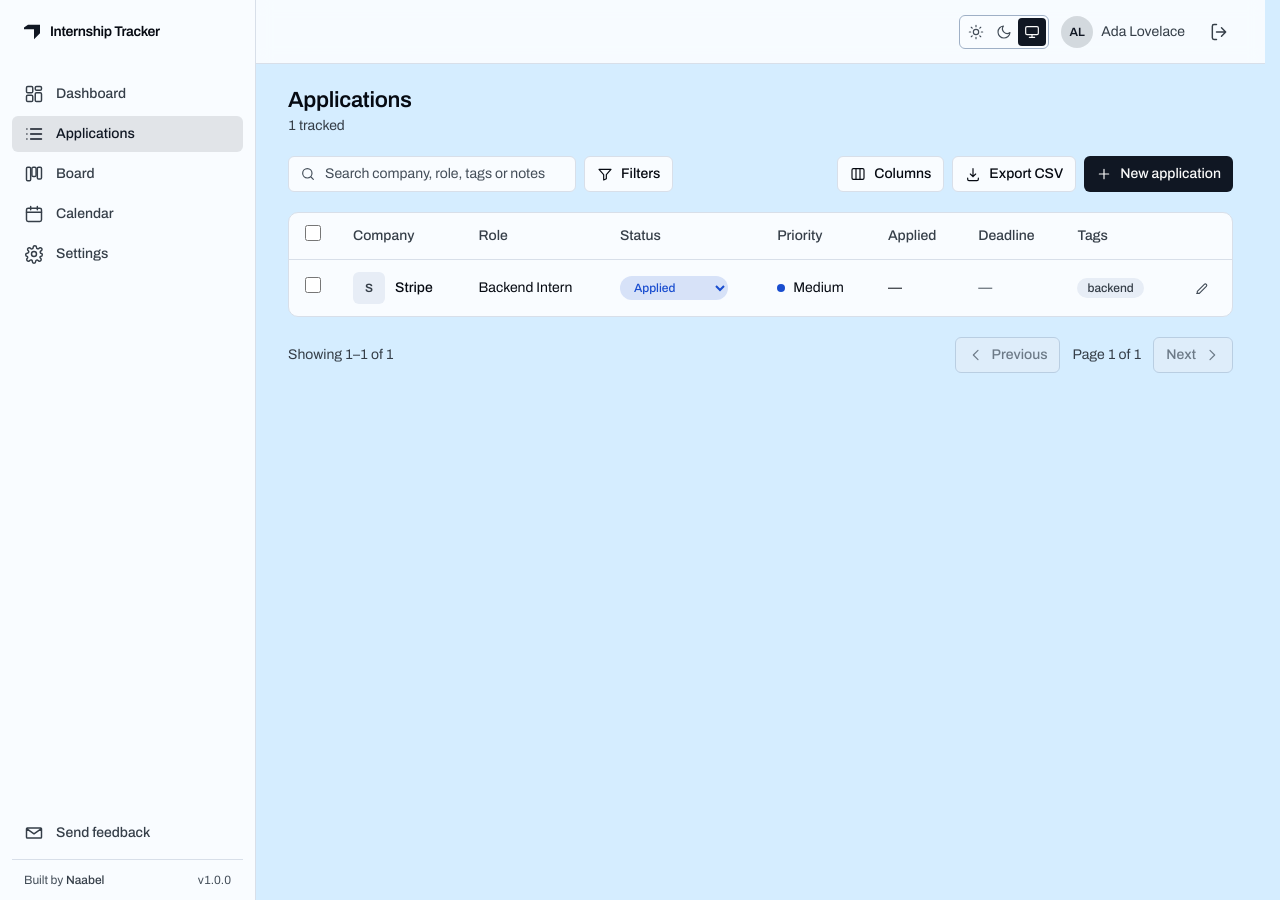
Test: the applications search field › keeps its name while the clear button is showing, and names everything it searches
Check: the link "S Stripe" is shown, box top-left (353, 272), bottom-right (433, 304)
Step 1. Type "stri" into the search field named "Search applications" → (432, 174), box top-left (288, 156), bottom-right (576, 192)
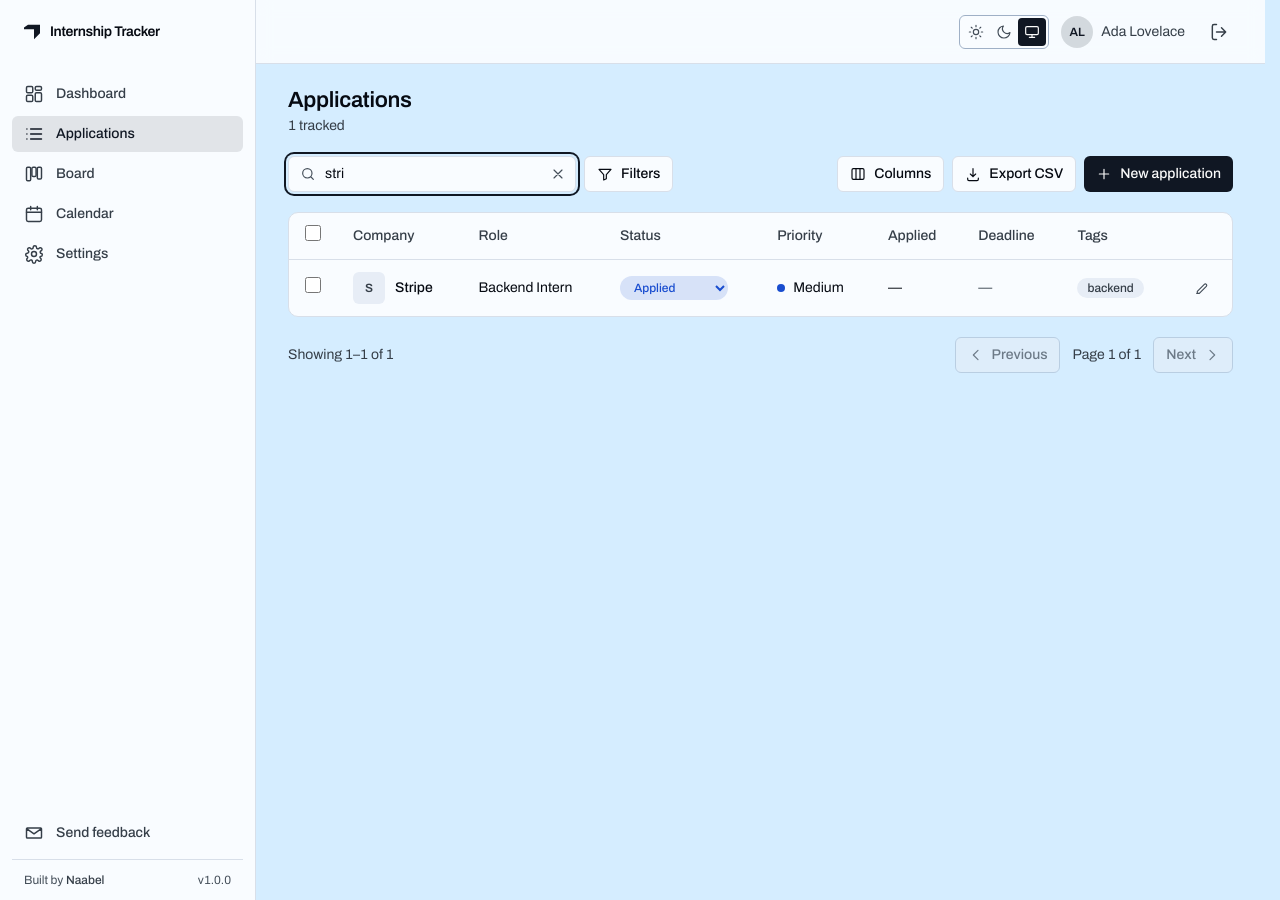
Check: the button named "Clear search" is shown, box top-left (544, 160), bottom-right (572, 188)
